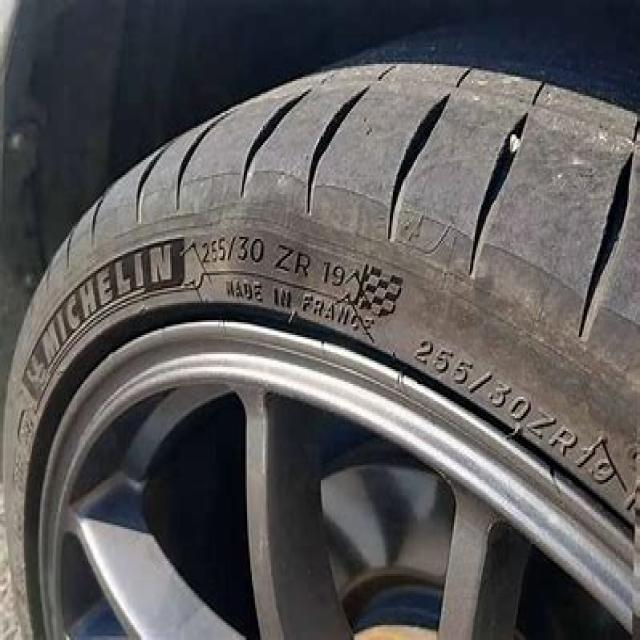Bulge: (215, 175, 314, 313)
